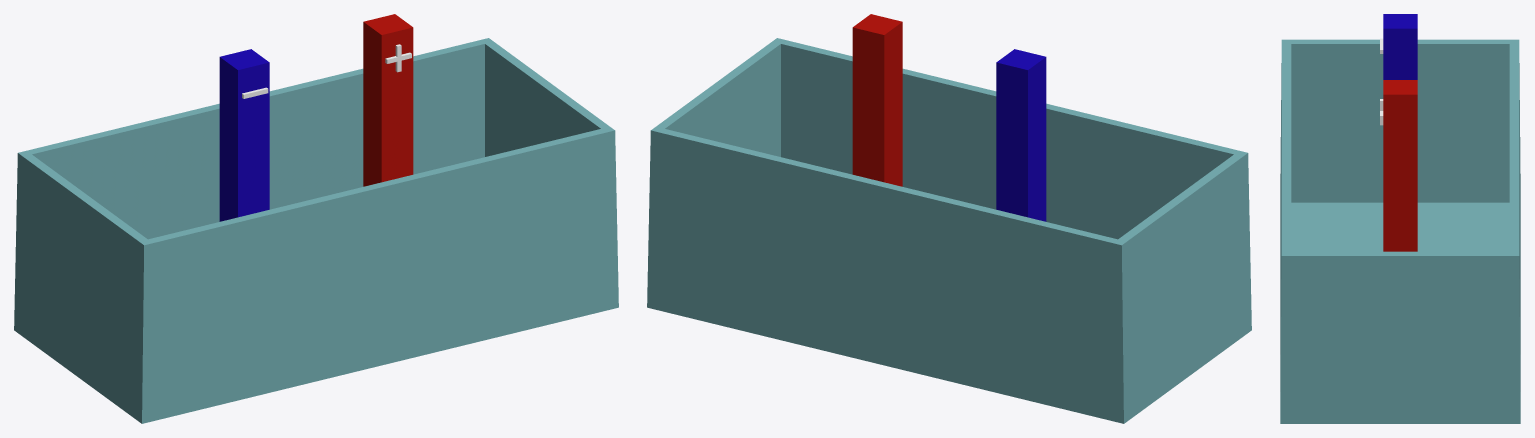
Rendered from binhdienphan.gltf.
3 renders of one model, left to right at view 1: azimuth 30°, elevation 25°; view 2: azimuth 150°, elevation 25°; view 3: azimuth 270°, elevation 25°, orthographic. The views are drawn at different scales.
Visible parts, largest first — view 1: pCube1, pCube2, pCube3; view 2: pCube1, pCube2, pCube3; view 3: pCube1, pCube3, pCube2.
Part boxes in pixels (x1=…): pCube1: x1=14, y1=38, x2=618, y2=423; pCube2: x1=219, y1=49, x2=269, y2=221; pCube3: x1=363, y1=14, x2=413, y2=186; pCube1: x1=647, y1=38, x2=1251, y2=423; pCube2: x1=996, y1=49, x2=1046, y2=221; pCube3: x1=852, y1=14, x2=902, y2=186; pCube1: x1=1280, y1=39, x2=1520, y2=423; pCube3: x1=1383, y1=80, x2=1417, y2=251; pCube2: x1=1383, y1=14, x2=1417, y2=79.
Size of the model in its own units: 3.25 by 1.8 by 1.51.
